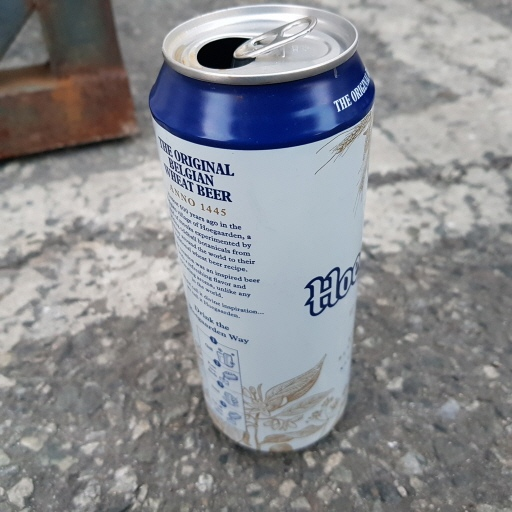Metal_0: (144, 3, 385, 455)
